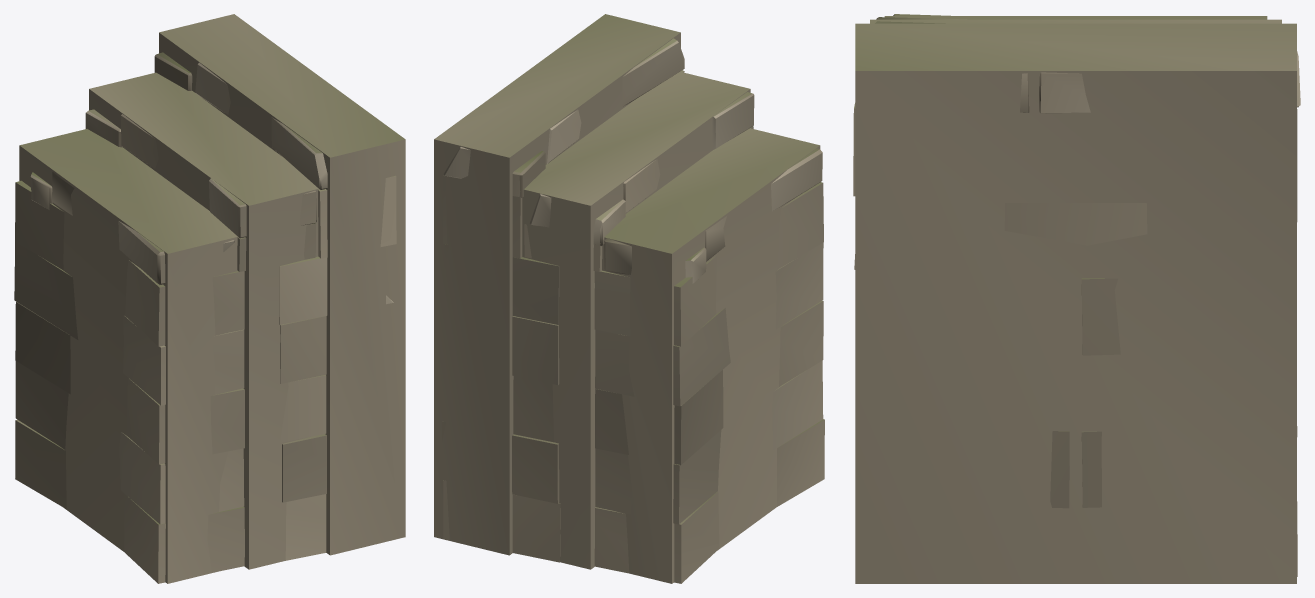
The model's file is theatre_seat_2.glb.
3 renders of one model, left to right at view 1: azimuth 30°, elevation 25°; view 2: azimuth 150°, elevation 25°; view 3: azimuth 270°, elevation 25°, orthographic. The views are drawn at different scales.
Parts seen in each view (by area): view 1: theatre_seat_2_far, theatre_seat_2; view 2: theatre_seat_2_far, theatre_seat_2; view 3: theatre_seat_2_far, theatre_seat_2.
Part boxes in pixels (box(x1,y1,x2,y2)): theatre_seat_2_far: box(19, 14, 405, 583); theatre_seat_2: box(14, 52, 396, 583); theatre_seat_2_far: box(434, 14, 820, 583); theatre_seat_2: box(441, 38, 824, 583); theatre_seat_2_far: box(855, 16, 1296, 583); theatre_seat_2: box(853, 14, 1300, 576).
Bounding box in the file's own units: 8.72 × 14.11 × 11.15.
